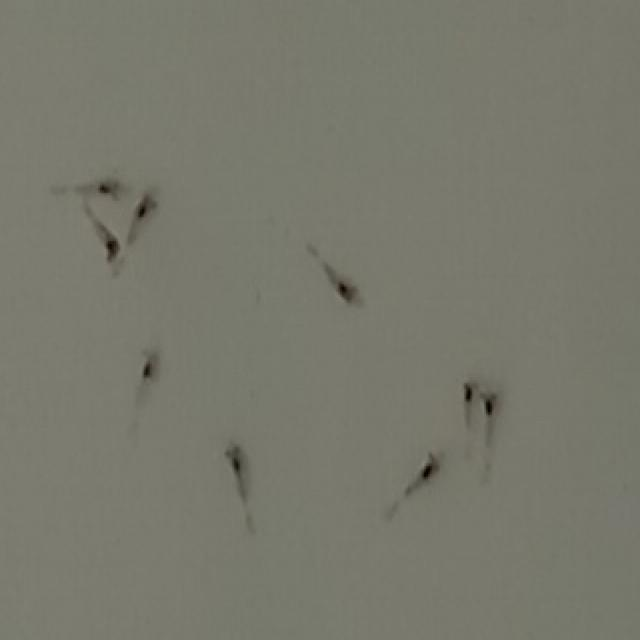shrimp-seed: (320, 262, 364, 318), (404, 448, 448, 502), (92, 172, 127, 218), (130, 183, 160, 231), (220, 442, 251, 486), (98, 233, 126, 277), (456, 378, 478, 432), (134, 347, 162, 387), (480, 386, 500, 434)
